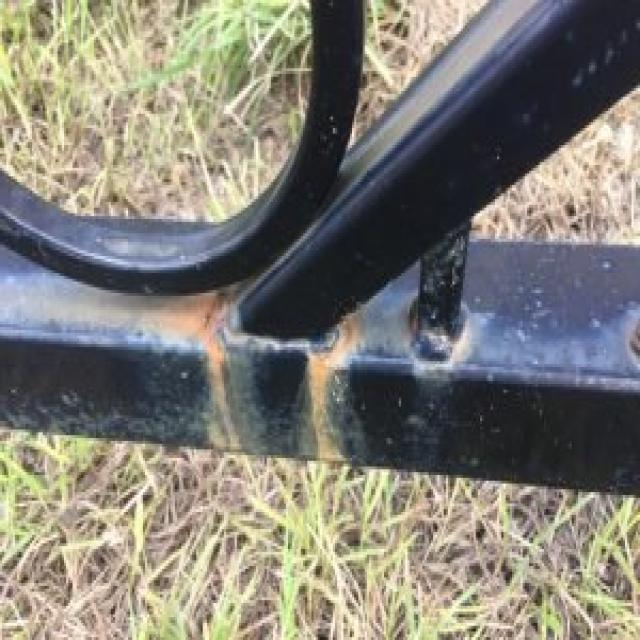Corrosion: (14, 274, 207, 344), (299, 352, 342, 462), (205, 325, 235, 450), (160, 292, 224, 350), (325, 316, 357, 380)
